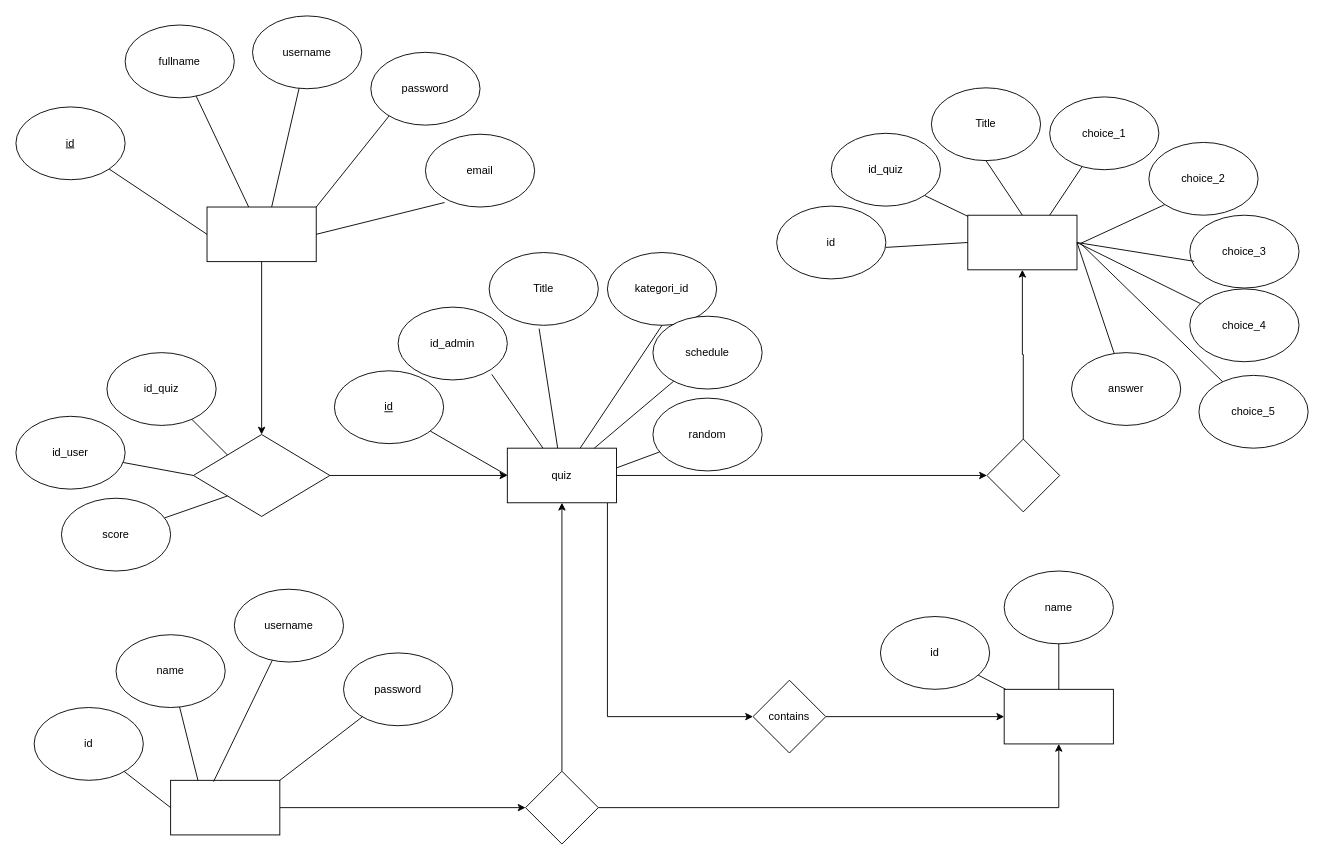
Some shapes in this 1324 by 860 pixel diagram are drawn without their labels. The centre of each missing label's shape, as x and y in pixels:
"admin" goes at pixel 225 807.
"attempt" goes at pixel 261 475.
"category" goes at pixel 1058 716.
"create" goes at pixel 561 807.
"have" goes at pixel 1023 475.
"question" goes at pixel 1022 242.
"User" goes at pixel 261 234.
